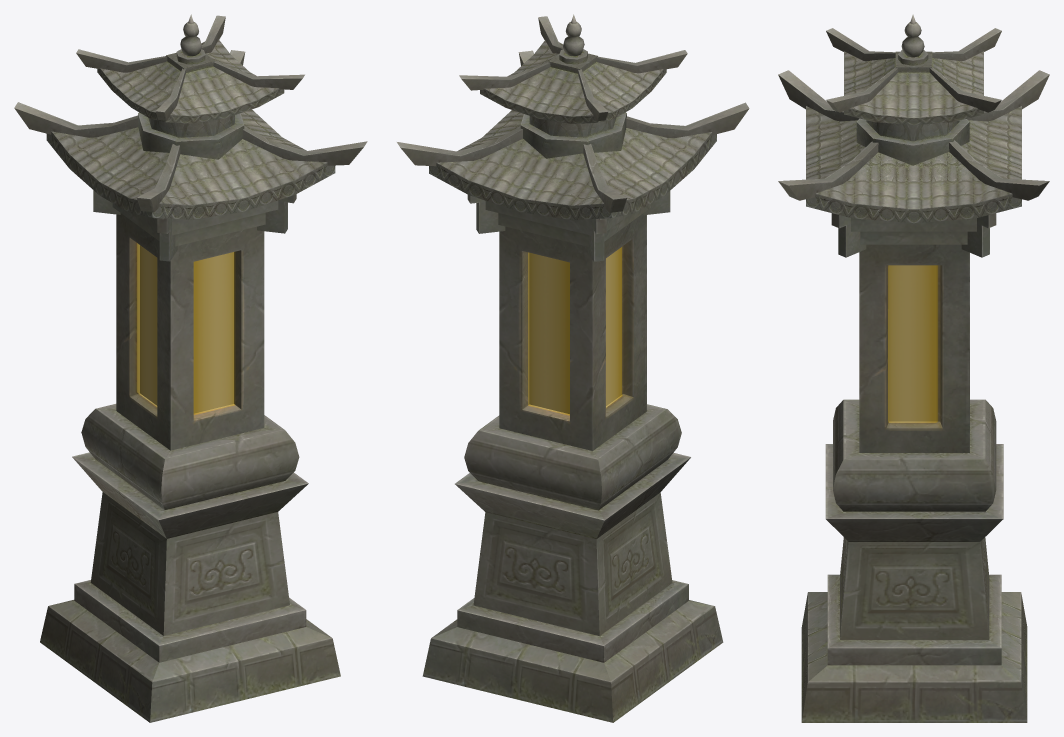
File: wlf_wujian09_jgc.FBX
3 views of the same model, side by side, from view 1: azimuth 30°, elevation 25°; view 2: azimuth 150°, elevation 25°; view 3: azimuth 270°, elevation 25° (orthographic). The views are drawn at different scales.
Parts seen in each view (by area): view 1: wlf_wujian09_jgc; view 2: wlf_wujian09_jgc; view 3: wlf_wujian09_jgc.
Boxes of the visible parts, x1,y1,x2,y2 form: wlf_wujian09_jgc: (14, 14, 367, 722); wlf_wujian09_jgc: (397, 14, 749, 722); wlf_wujian09_jgc: (778, 14, 1049, 722).
Bounding box in the file's own units: 8.14 × 21.73 × 8.1.
